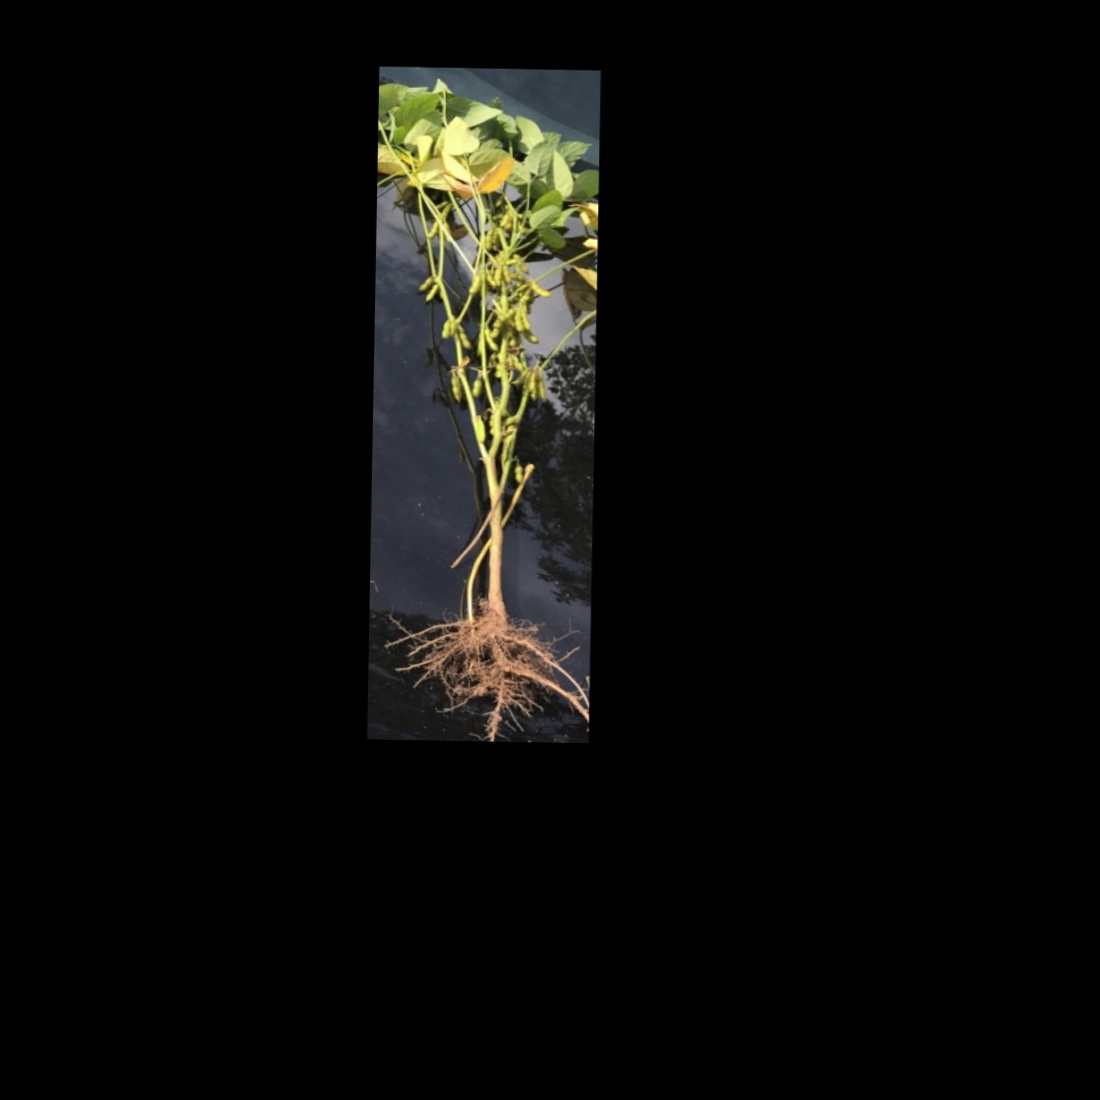pod: (527, 277, 554, 298), (454, 322, 475, 349), (484, 324, 501, 354), (423, 280, 441, 306), (510, 307, 526, 334), (450, 372, 463, 404), (425, 218, 442, 241), (482, 228, 495, 252), (513, 462, 524, 487)
soy: (370, 126, 591, 704)
